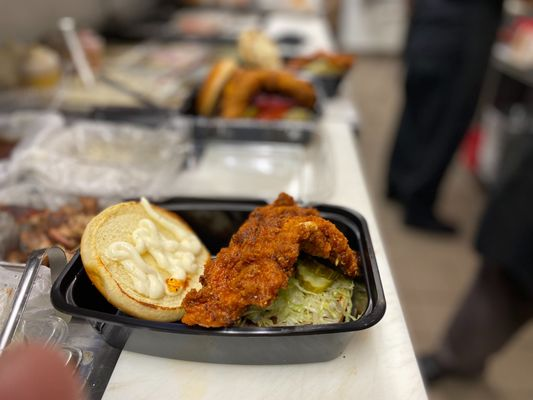pizza: (387, 0, 503, 236)
